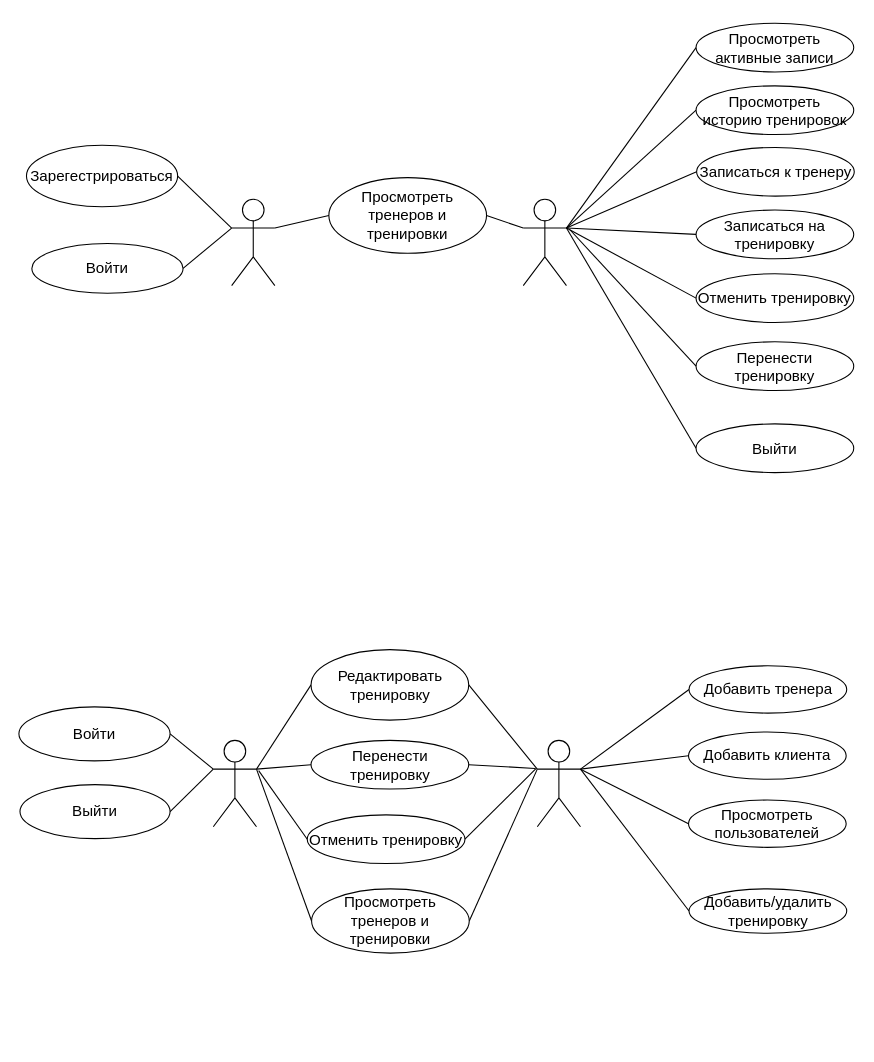
Image size: 874x1062. Some labels were removed from this diagram. Here are the shapes that lost their labels. From the top down, the centre of each, then its label:
At [253,242]: "Гость".
At [544,242]: "Авторизованный клиент".
At [234,783]: "Тренер".
At [558,783]: "Администратор".
